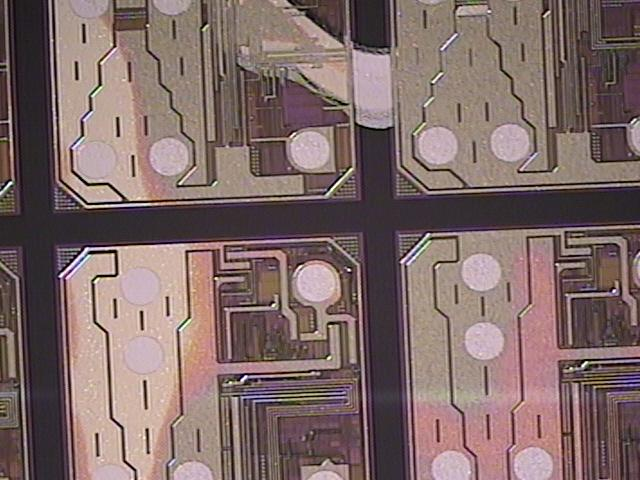COATING BAD: (50, 1, 397, 480)
